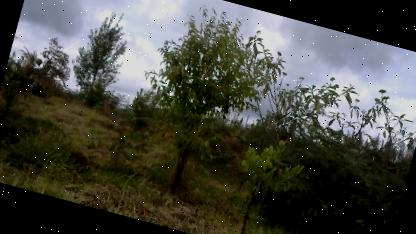tree: (112, 0, 297, 208), (60, 3, 140, 116)
